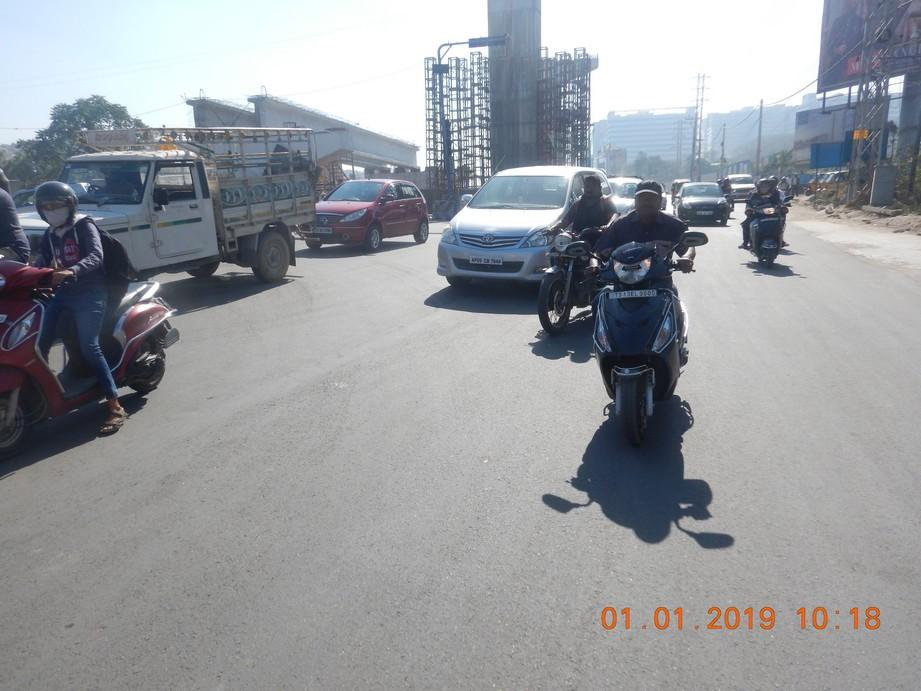plate: (604, 289, 660, 300)
